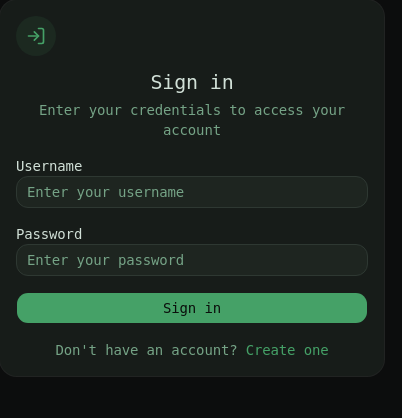
Test: login page › shows validation error for short password
Type "testuser" into the field labelled "Username" at (192, 192), box [16,176,368,208]
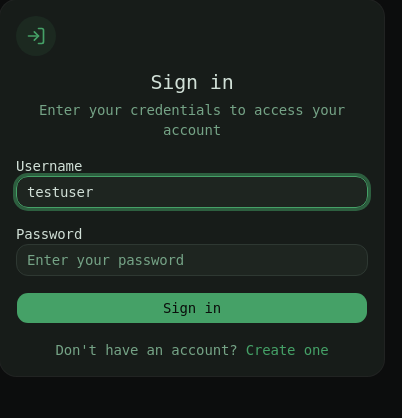
Type "12345" into the password field labelled "Password" at (192, 260), box [16,244,368,276]
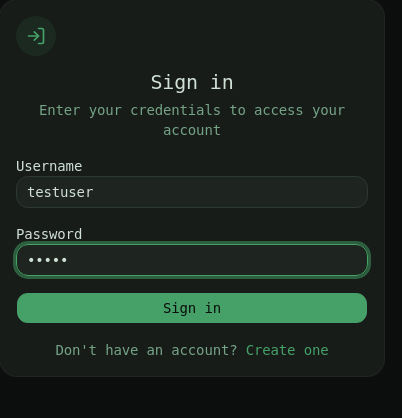
Click the button "Sign in" at (192, 308), box [16,292,368,324]
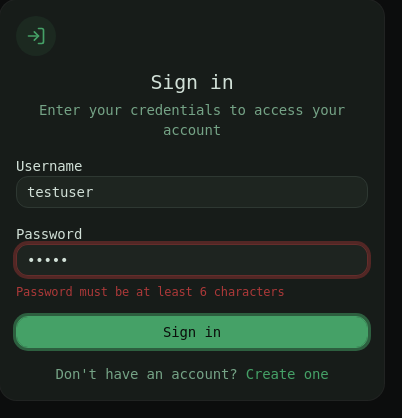
Expected: the text "Password must be at least 6 characters" is shown, [16,285,284,299]
